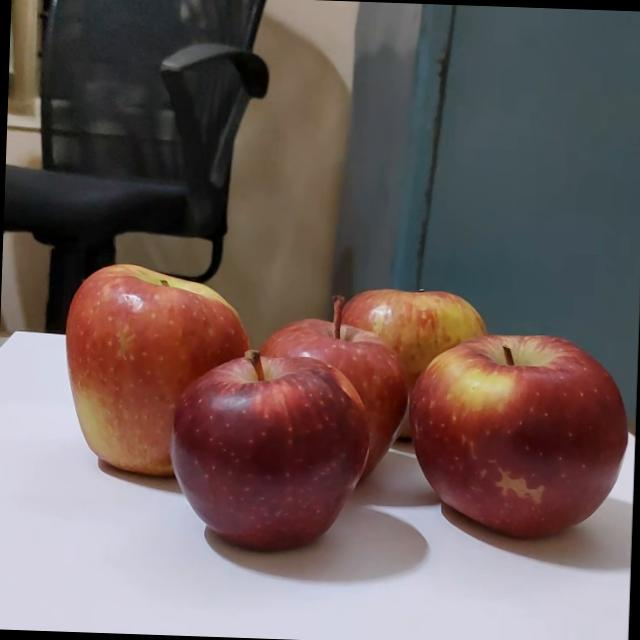apple: (402, 328, 640, 546), (58, 245, 262, 486), (160, 341, 378, 558), (248, 288, 415, 490), (332, 279, 498, 445)
